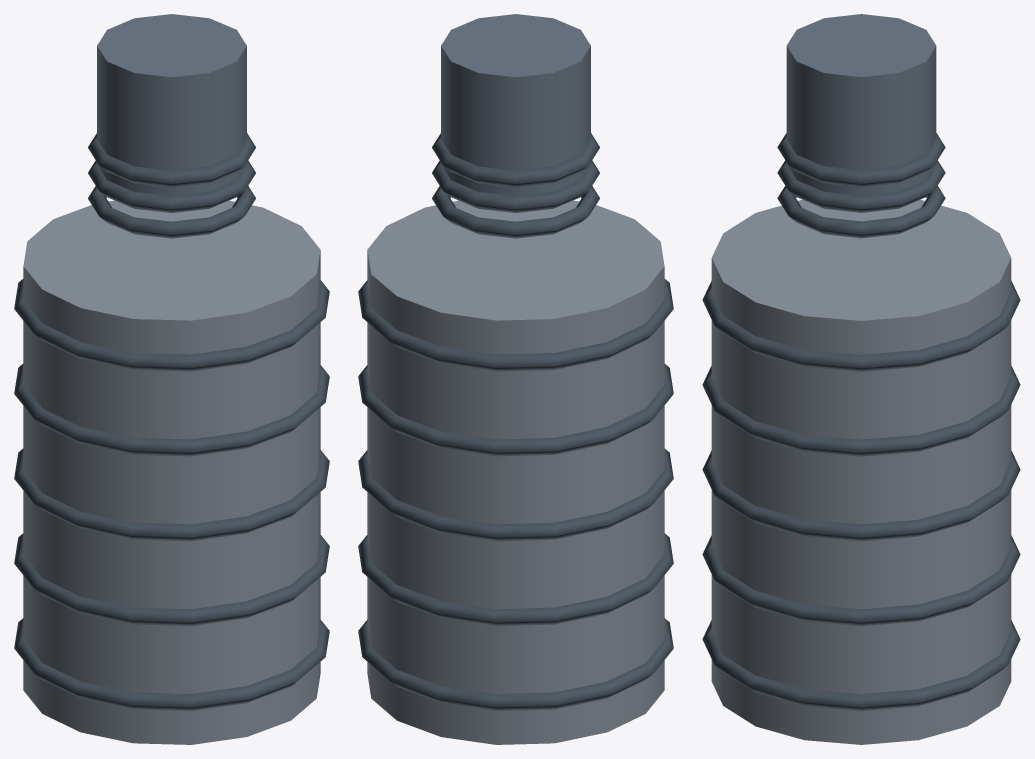
The model's file is muffler.glb.
The picture shows the model from 3 angles, left to right: view 1: azimuth 30°, elevation 25°; view 2: azimuth 150°, elevation 25°; view 3: azimuth 270°, elevation 25°; orthographic projection.
Bounding box in the file's own units: 0.17 × 0.375 × 0.17.
